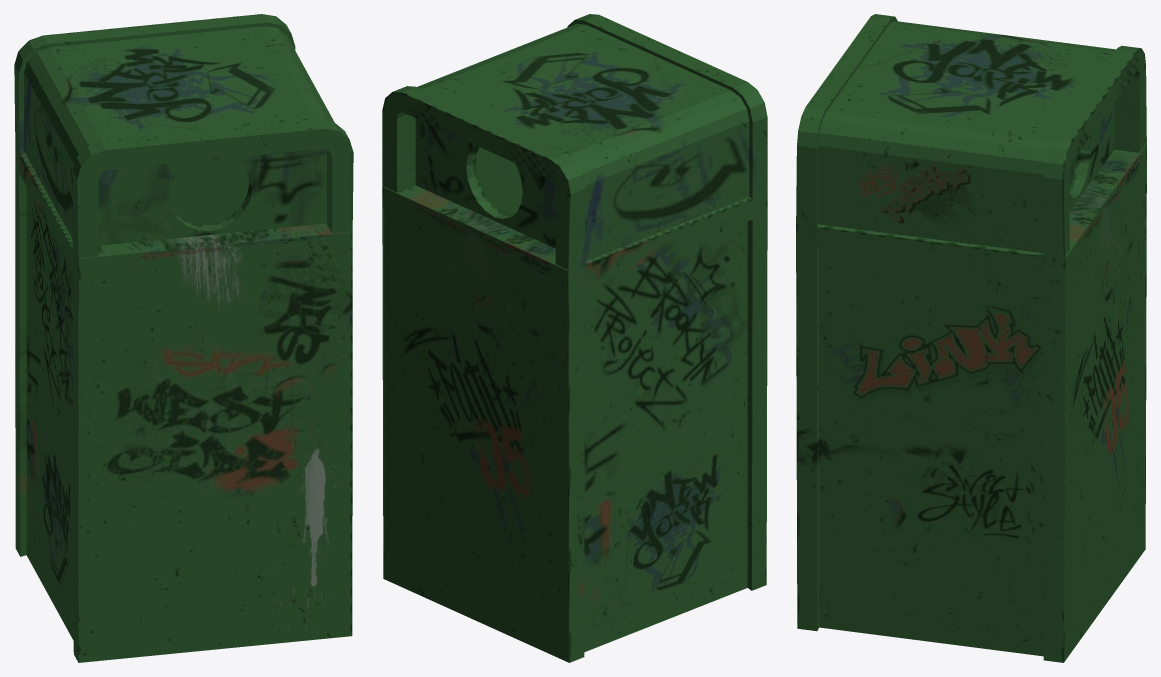
Rendered from trash.glb.
3 renders of one model, left to right at view 1: azimuth 30°, elevation 25°; view 2: azimuth 150°, elevation 25°; view 3: azimuth 270°, elevation 25°, orthographic. The views are drawn at different scales.
Visible parts, largest first — view 1: trash; view 2: trash; view 3: trash.
Part boxes in pixels (x1,y1,x2,y2): trash: (14,14,353,662); trash: (382,14,767,662); trash: (796,14,1146,662).
Bounding box in the file's own units: 0.7308 × 1.17 × 0.7275.
1 material, 1 textured.
